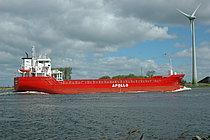Ship: (10, 42, 193, 99)
